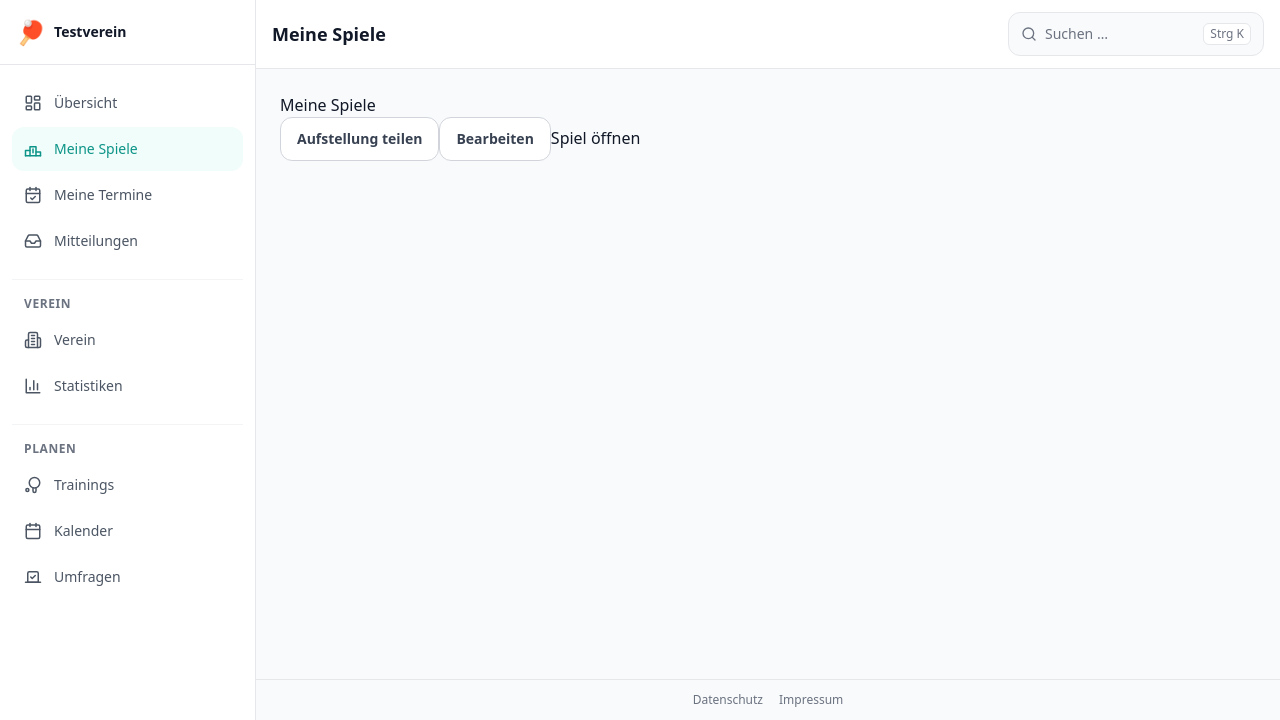
Test: Zurückwischen schließt zuerst den Dialog › ein Dialog löst den nächsten ab: ein Eintrag, nicht zwei
Click the button "Bearbeiten": (495, 139) [439,117,551,161]
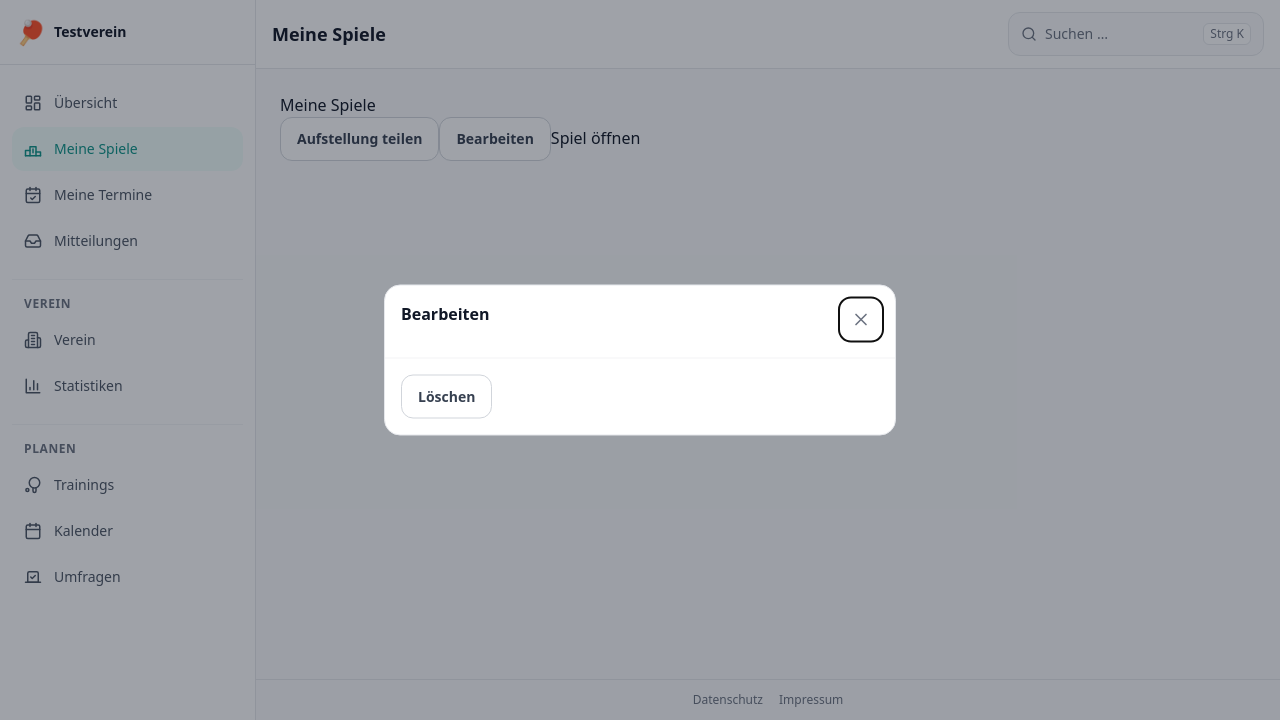
Click the button "Löschen": (447, 396) [401,374,492,418]
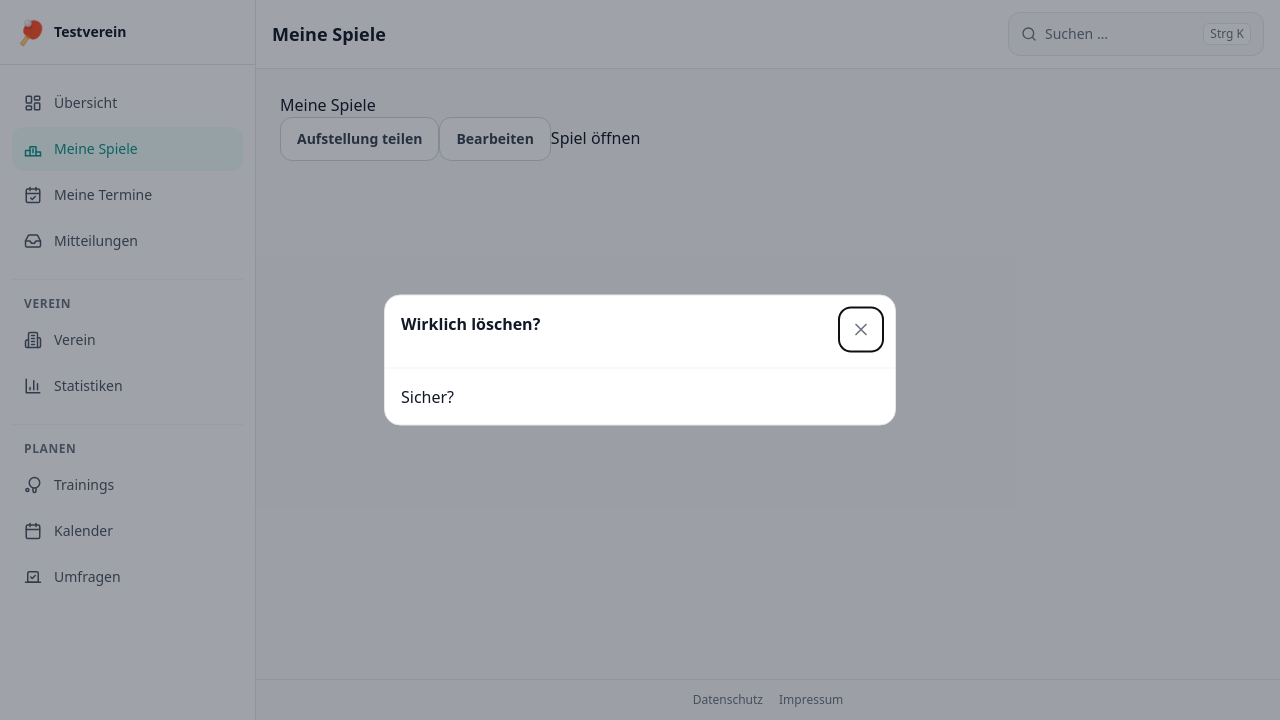
Expected: the dialog "Wirklich löschen?" is shown, [384,294,896,426]
